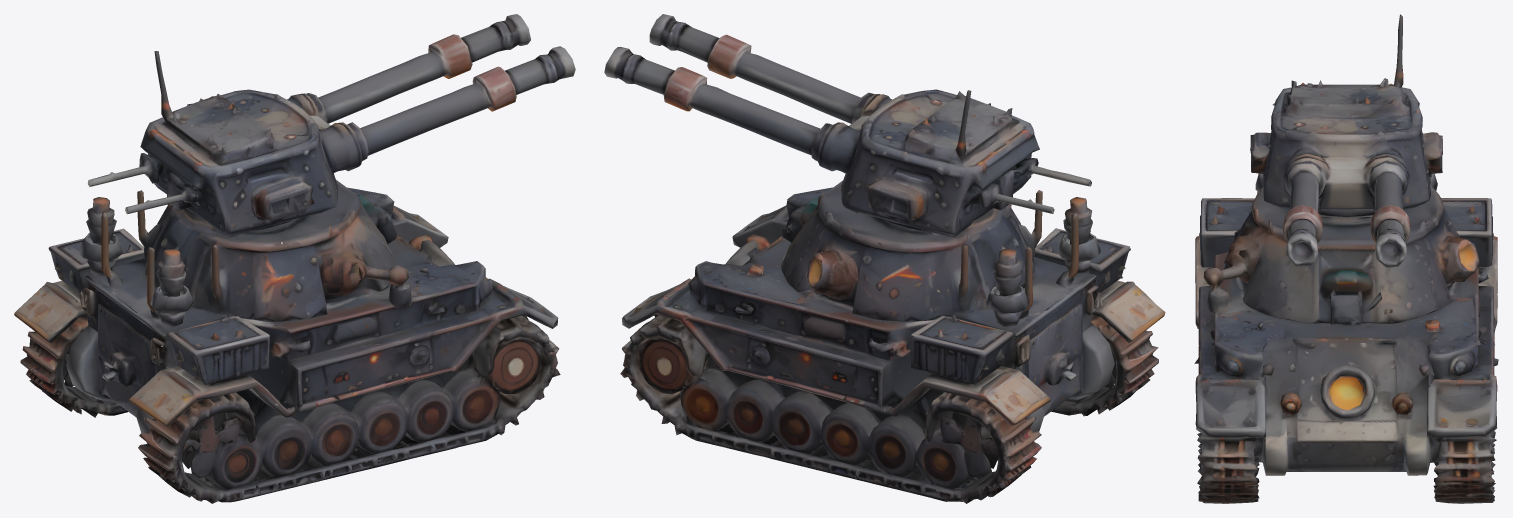
File: midir_engine.glb
3 views of the same model, side by side, from view 1: azimuth 30°, elevation 25°; view 2: azimuth 150°, elevation 25°; view 3: azimuth 270°, elevation 25° (orthographic).
Visible parts, largest first — view 1: tripo_node_b123f2ae-d09e-4622-b17d-43f7d0d366f8; view 2: tripo_node_b123f2ae-d09e-4622-b17d-43f7d0d366f8; view 3: tripo_node_b123f2ae-d09e-4622-b17d-43f7d0d366f8.
Part boxes in pixels (x1=…): tripo_node_b123f2ae-d09e-4622-b17d-43f7d0d366f8: x1=14, y1=14, x2=575, y2=503; tripo_node_b123f2ae-d09e-4622-b17d-43f7d0d366f8: x1=604, y1=14, x2=1165, y2=503; tripo_node_b123f2ae-d09e-4622-b17d-43f7d0d366f8: x1=1194, y1=14, x2=1498, y2=503.
Bounding box in the file's own units: 1 × 0.7822 × 0.5782.
Materials: 1 (1 with a texture image).
